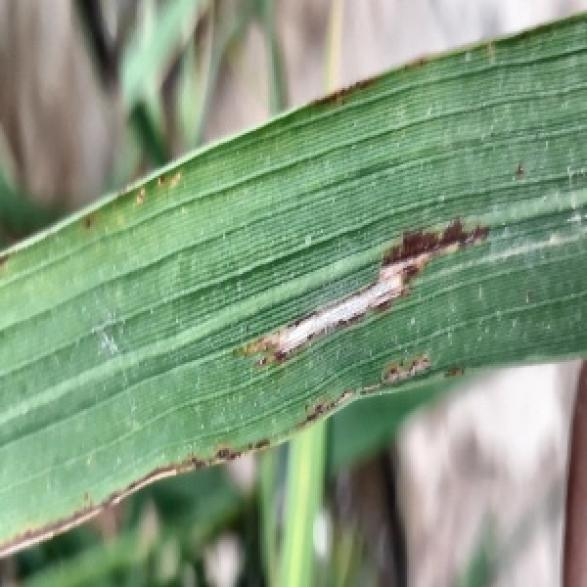Leaf_smut: (231, 161, 522, 446)
